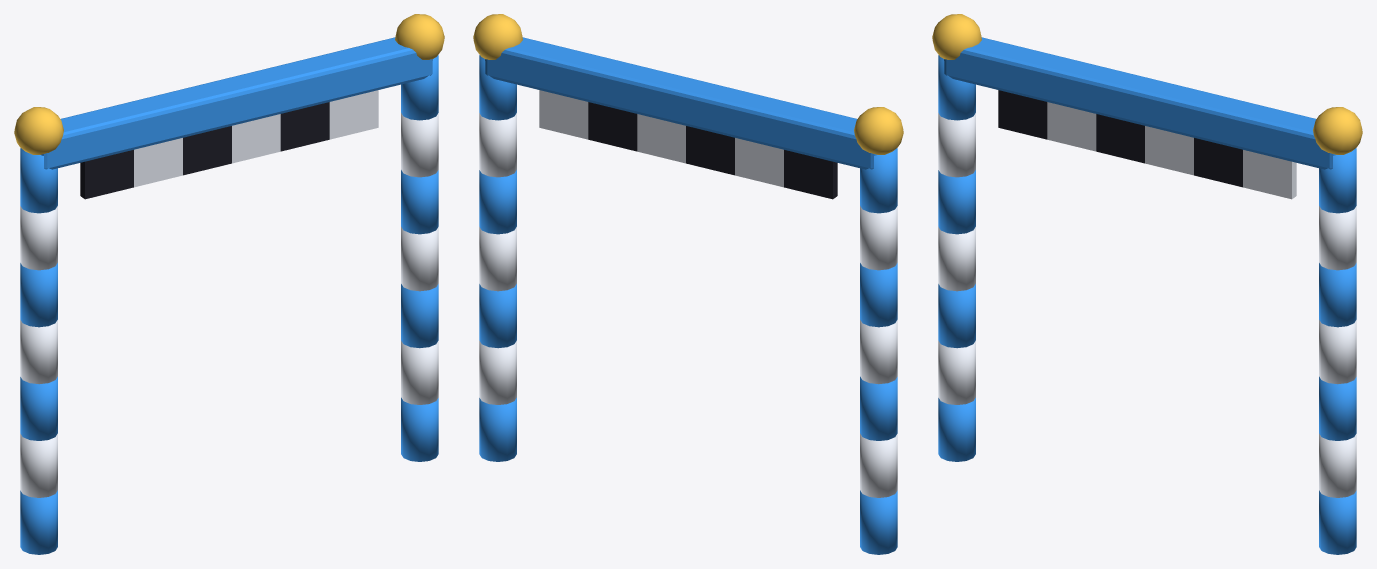
The model's file is SpeedGate.fbx.
3 renders of one model, left to right at view 1: azimuth 30°, elevation 25°; view 2: azimuth 150°, elevation 25°; view 3: azimuth 330°, elevation 25°, orthographic.
Visible parts, largest first — view 1: SpeedGate; view 2: SpeedGate; view 3: SpeedGate.
Part boxes in pixels (left/top/right/bottom): SpeedGate: left=14, top=14, right=444, bottom=554; SpeedGate: left=473, top=14, right=903, bottom=554; SpeedGate: left=932, top=14, right=1362, bottom=554.
Size of the model in its own units: 15.6 by 15.4 by 1.6.
Materials: 1 (1 with a texture image).
